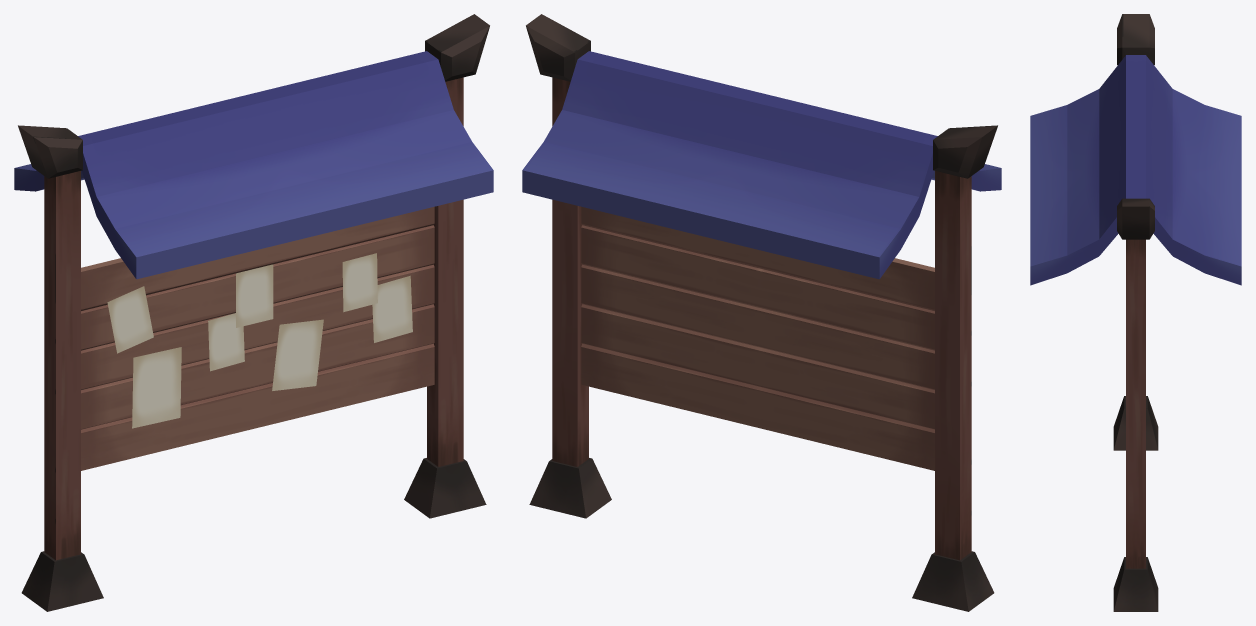
File: quest board.fbx
3 views of the same model, side by side, from view 1: azimuth 30°, elevation 25°; view 2: azimuth 150°, elevation 25°; view 3: azimuth 270°, elevation 25° (orthographic). The views are drawn at different scales.
Visible parts, largest first — view 1: Quest Board; view 2: Quest Board; view 3: Quest Board.
Boxes of the visible parts, x1,y1,x2,y2 form: Quest Board: (14,14,493,611); Quest Board: (522,14,1001,611); Quest Board: (1030,14,1241,611).
Size of the model in its own units: 428 by 424 by 198.
1 material, 1 textured.
